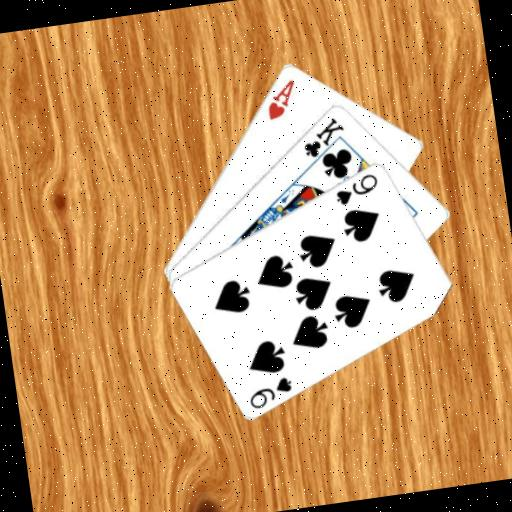9S: (330, 169, 383, 208), (244, 373, 297, 412)
AH: (260, 76, 301, 123)
KC: (297, 112, 351, 169)
